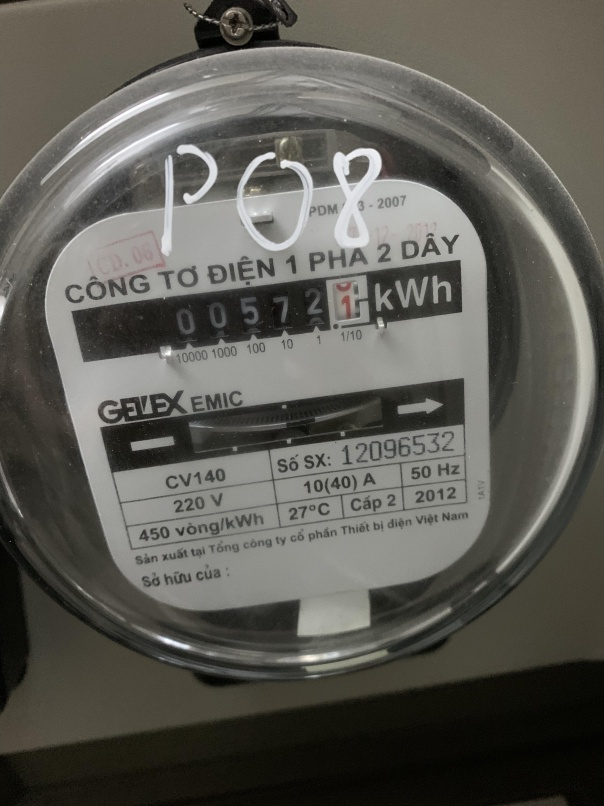counter: (76, 260, 464, 365)
electricity_meter: (9, 51, 598, 687)
